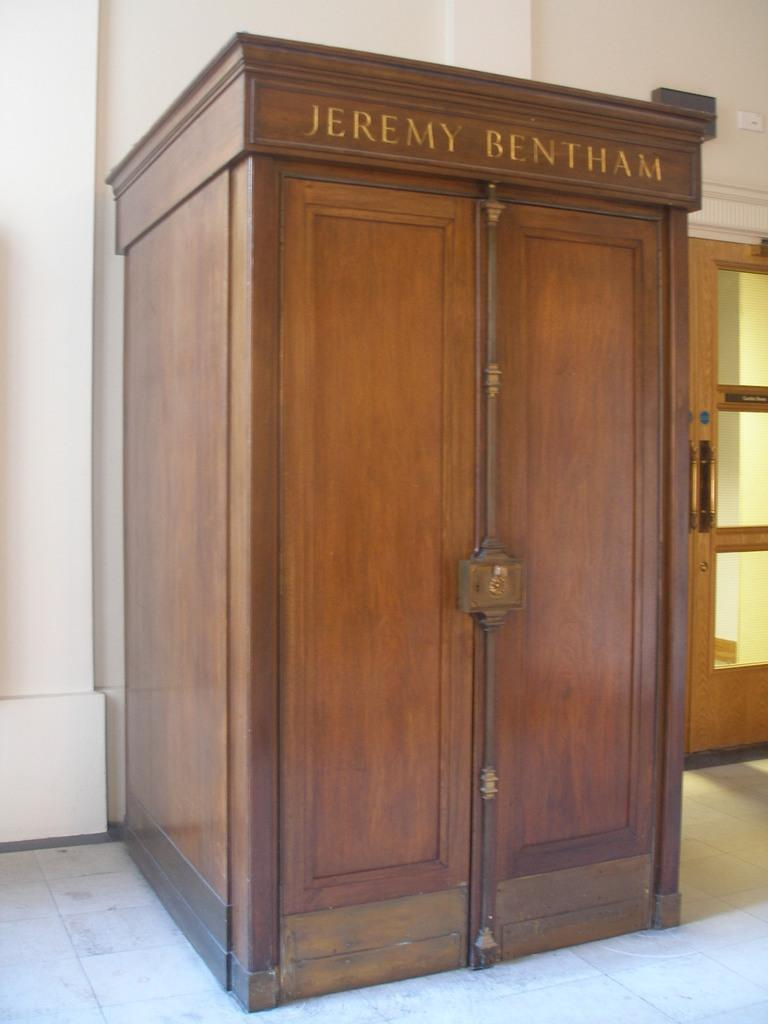door: (698, 260, 768, 761)
handle: (461, 550, 531, 623), (693, 434, 721, 536)
